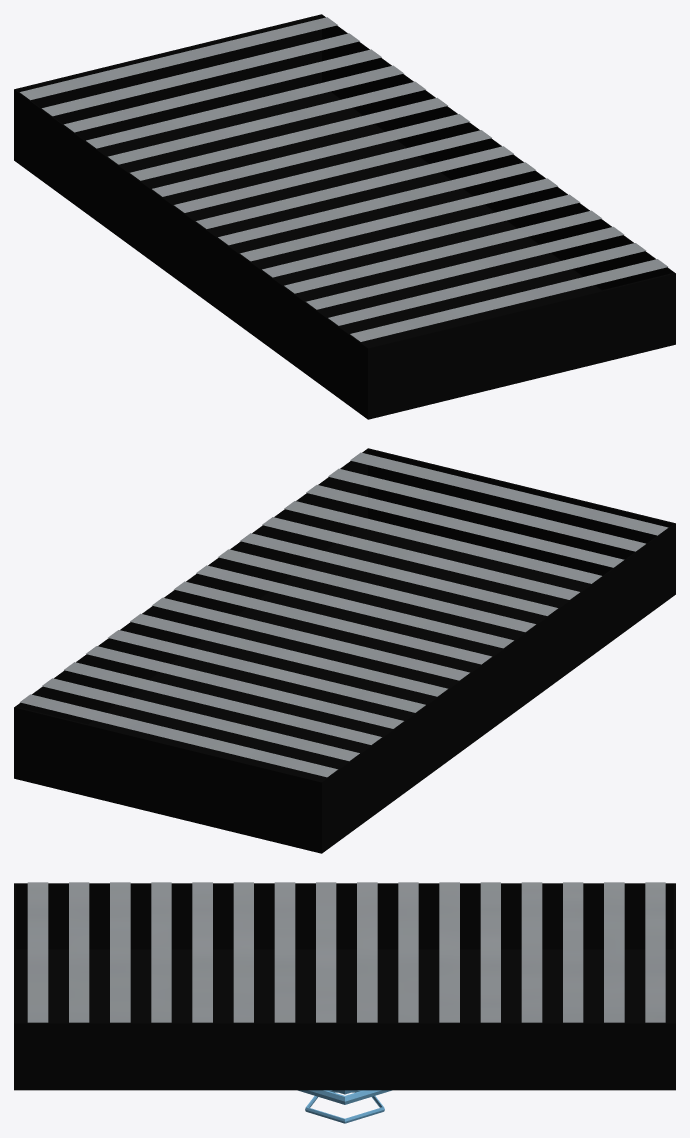
The model's file is grill.dae.
The picture shows the model from 3 angles, top to bottom: view 1: azimuth 30°, elevation 25°; view 2: azimuth 150°, elevation 25°; view 3: azimuth 270°, elevation 25°; orthographic projection. The views are drawn at different scales.
Parts seen in each view (by area): view 1: Torus; view 2: Torus; view 3: Torus.
Part boxes in pixels (x1,y1,x2,y2): Torus: (14,14,675,419); Torus: (14,448,675,853); Torus: (14,882,675,1123).
Size of the model in its own units: 0.4496 by 0.8958 by 0.2297.
1 material, 1 textured.
